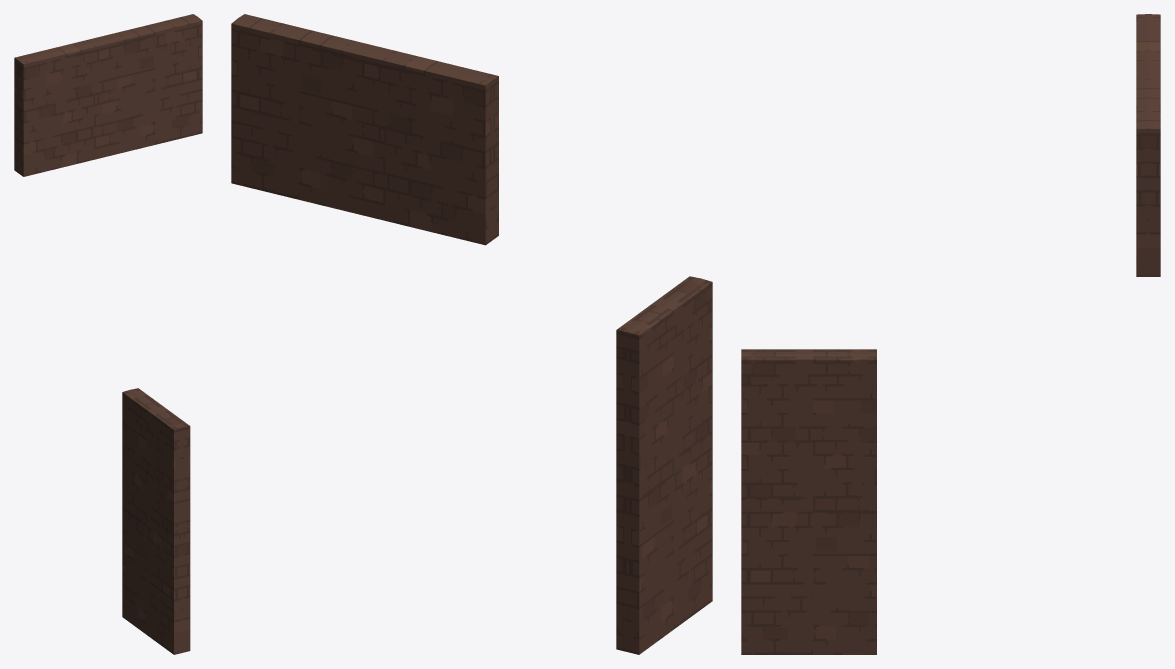
File: Combined Mesh (root_ scene) 9.obj
3 views of the same model, side by side, from view 1: azimuth 30°, elevation 25°; view 2: azimuth 150°, elevation 25°; view 3: azimuth 270°, elevation 25° (orthographic). The views are drawn at different scales.
Visible parts, largest first — view 1: Combined Mesh (root: scene) 9_0, Combined Mesh (root: scene) 9_2, Combined Mesh (root: scene) 9_3, Combined Mesh (root: scene) 9_1; view 2: Combined Mesh (root: scene) 9_1, Combined Mesh (root: scene) 9_2, Combined Mesh (root: scene) 9_3, Combined Mesh (root: scene) 9_0; view 3: Combined Mesh (root: scene) 9_3, Combined Mesh (root: scene) 9_0, Combined Mesh (root: scene) 9_1, Combined Mesh (root: scene) 9_2.
Part boxes in pixels (<box>): Combined Mesh (root: scene) 9_0: <box>19,17,202,176</box>; Combined Mesh (root: scene) 9_2: <box>122,389,181,654</box>; Combined Mesh (root: scene) 9_3: <box>131,388,190,652</box>; Combined Mesh (root: scene) 9_1: <box>14,14,197,173</box>; Combined Mesh (root: scene) 9_1: <box>231,18,492,245</box>; Combined Mesh (root: scene) 9_2: <box>627,278,712,654</box>; Combined Mesh (root: scene) 9_3: <box>616,276,700,651</box>; Combined Mesh (root: scene) 9_0: <box>238,14,498,240</box>; Combined Mesh (root: scene) 9_3: <box>741,354,876,654</box>; Combined Mesh (root: scene) 9_0: <box>1136,14,1148,276</box>; Combined Mesh (root: scene) 9_1: <box>1148,14,1160,276</box>; Combined Mesh (root: scene) 9_2: <box>741,349,876,353</box>.
Size of the model in its own units: 2.5 by 6.41 by 3.86.
Materials: 2 (2 with a texture image).
